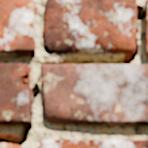brick: (42, 65, 147, 124), (44, 0, 135, 52), (0, 0, 35, 55), (0, 64, 29, 124), (40, 140, 147, 147), (146, 17, 147, 56)
broken_brick: (0, 144, 23, 147)
crack: (0, 0, 147, 146)
